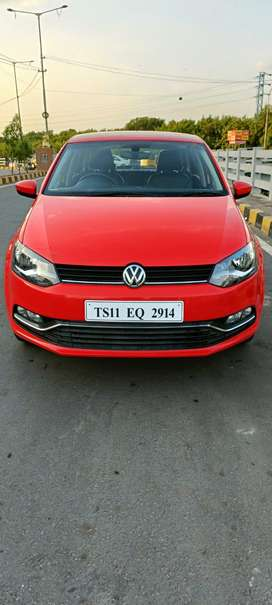TS11EQ2914: (84, 300, 182, 322)
